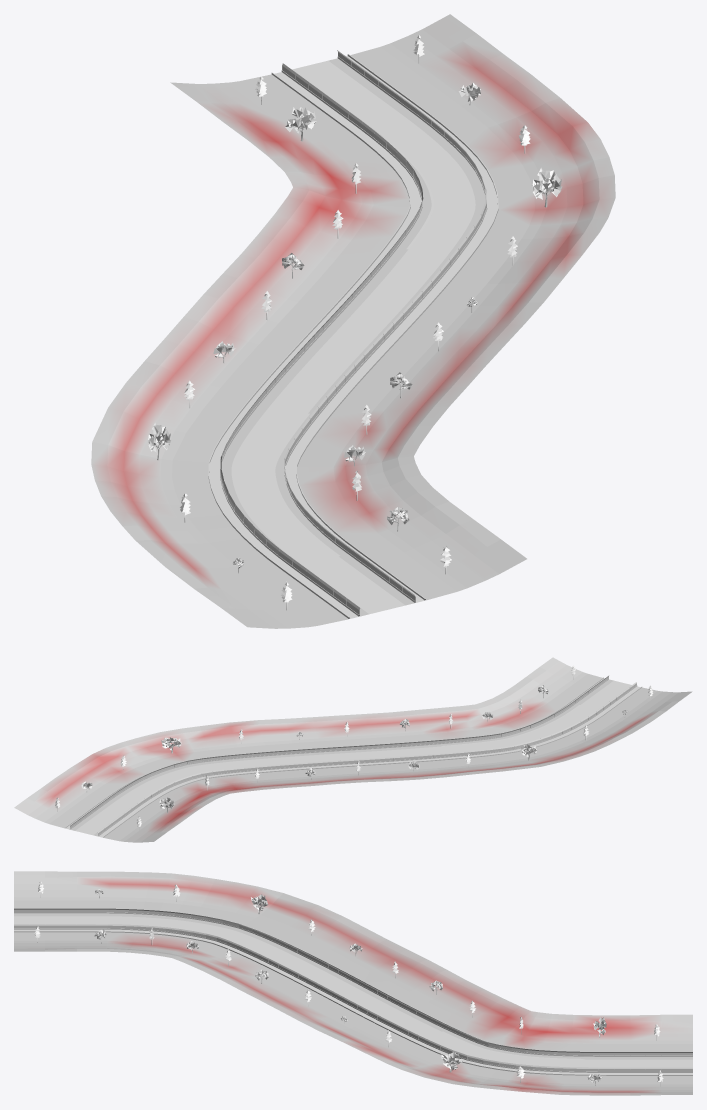
The picture shows the model from 3 angles, top to bottom: view 1: azimuth 30°, elevation 25°; view 2: azimuth 150°, elevation 25°; view 3: azimuth 270°, elevation 25°; orthographic projection. The views are drawn at different scales.
Parts seen in each view (by area): view 1: Grass, Road, Track, WireFence, Trees; view 2: Grass, Road, Track, WireFence, Trees; view 3: Grass, Road, WireFence, Track, Trees.
Part boxes in pixels (x1=…): Grass: x1=91, y1=14, x2=615, y2=628; Road: x1=232, y1=61, x2=474, y2=613; Track: x1=208, y1=50, x2=498, y2=618; WireFence: x1=220, y1=50, x2=486, y2=614; Trees: x1=148, y1=35, x2=562, y2=610; Grass: x1=14, y1=657, x2=692, y2=842; Road: x1=76, y1=680, x2=630, y2=835; Track: x1=65, y1=677, x2=641, y2=837; WireFence: x1=70, y1=676, x2=636, y2=835; Trees: x1=55, y1=665, x2=652, y2=830; Grass: x1=14, y1=871, x2=692, y2=1095; Road: x1=14, y1=916, x2=692, y2=1067; WireFence: x1=14, y1=908, x2=692, y2=1071; Track: x1=14, y1=909, x2=692, y2=1075; Trees: x1=34, y1=881, x2=663, y2=1086.
Size of what is drawn, in the model's own units: 39000 by 1740 by 50000.
